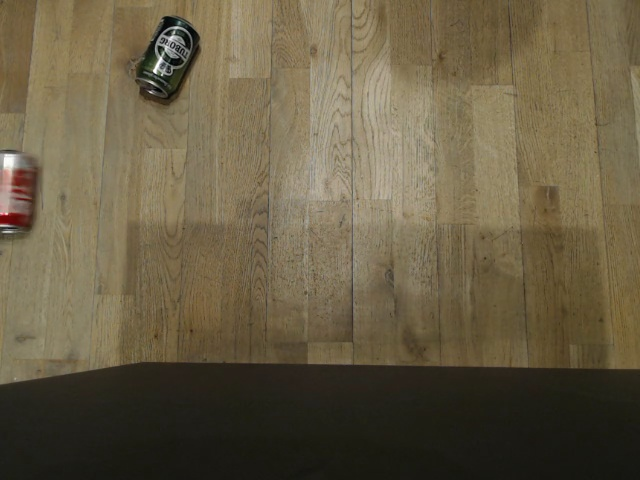beer: (131, 11, 204, 102)
cola: (0, 148, 40, 235)
